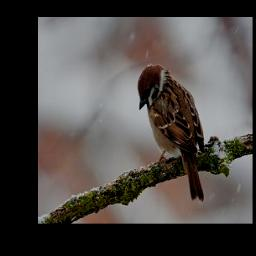Sparrow: (137, 62, 206, 201)
